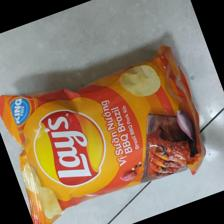Lays: (1, 45, 205, 224)
